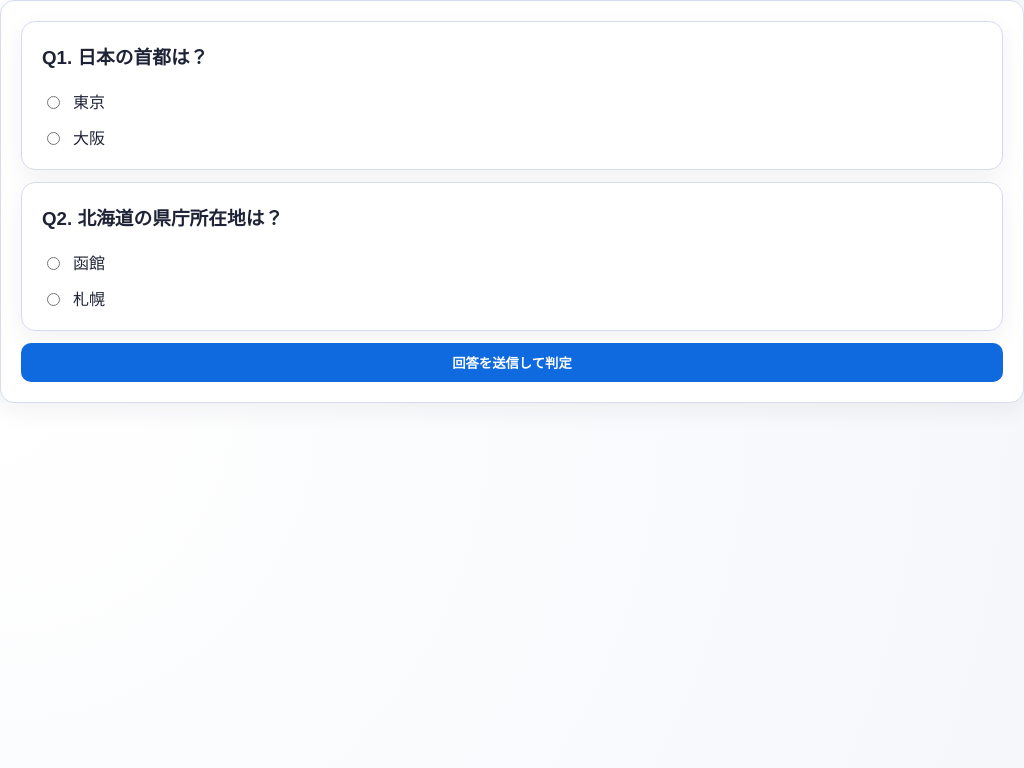
Scenario: QuizPlayer › APIエラー時はエラーメッセージを表示する
The image size is (1024, 768).
Click the button "回答を送信して判定". click: click(512, 362)
box: [21,343,1003,382]
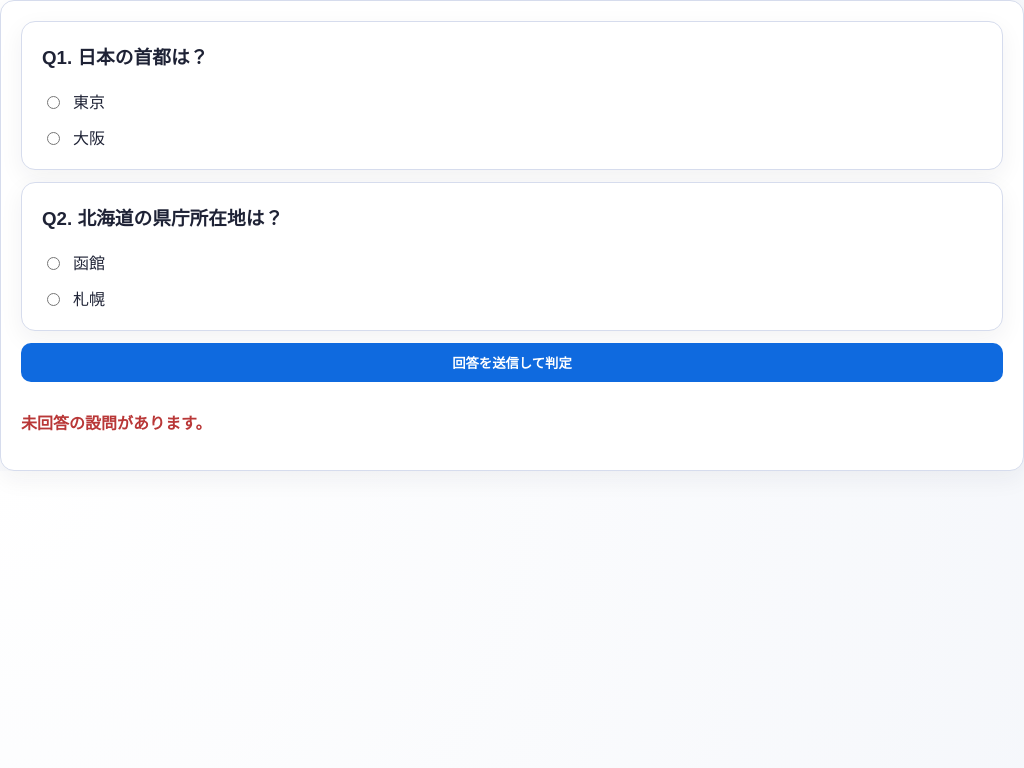
Check: the text "未回答の設問があります。" is shown, box [21,415,211,432]
